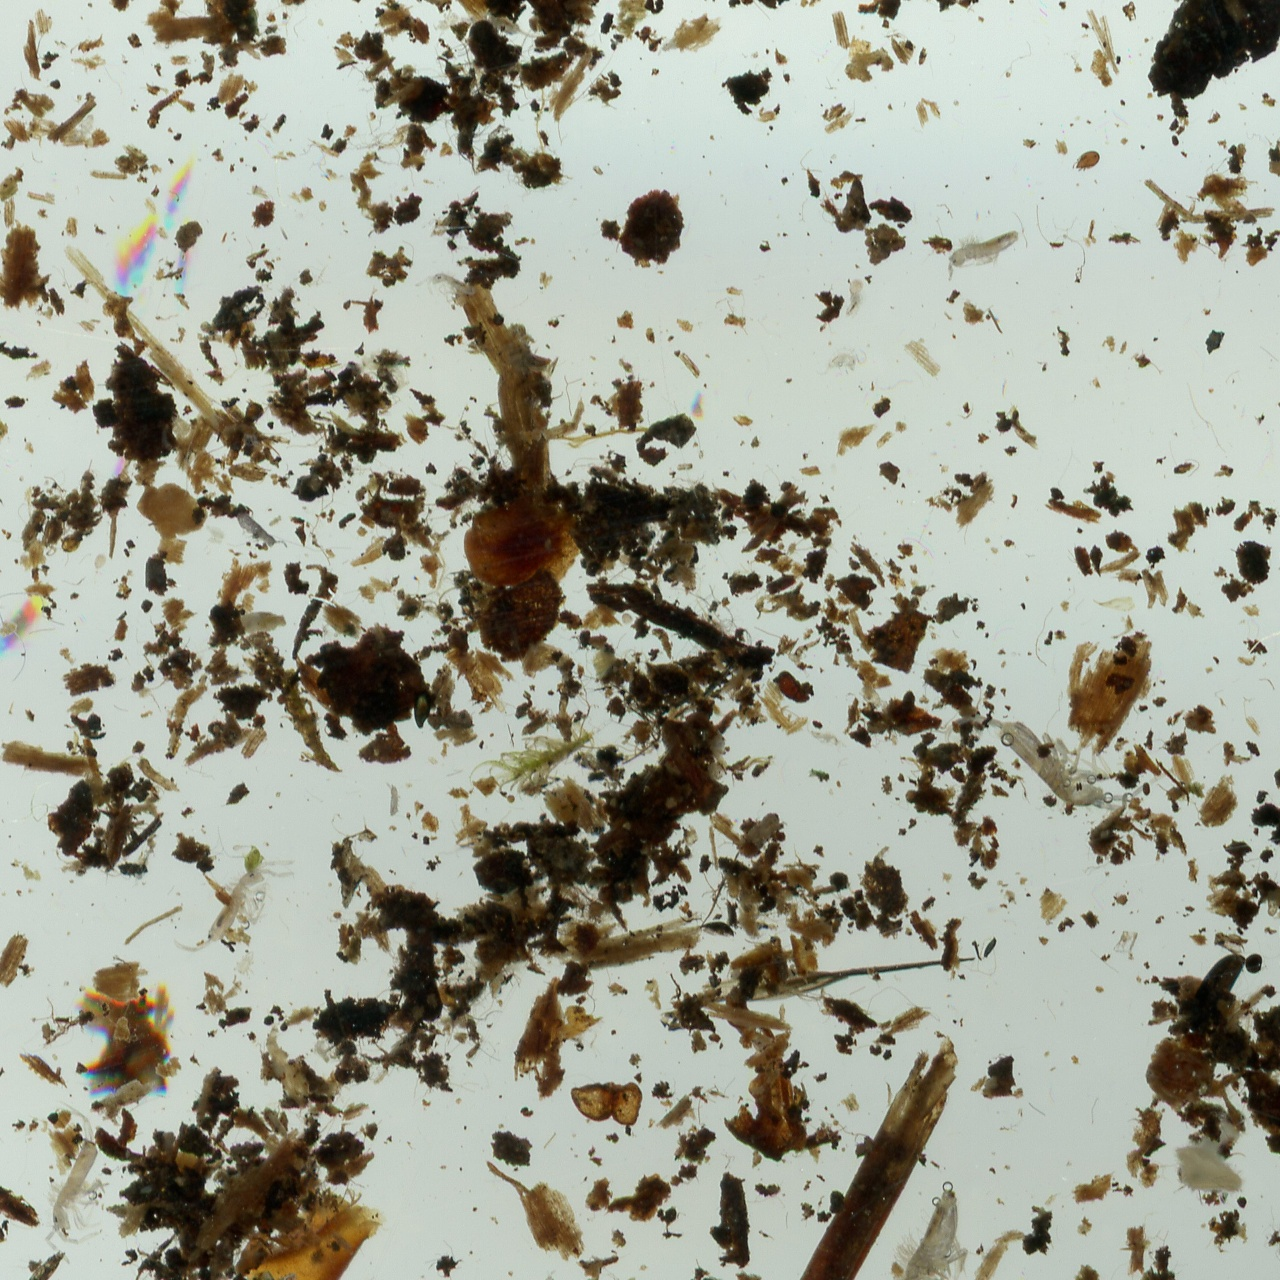arthropod: (931, 633, 1178, 874), (164, 823, 302, 983), (23, 1112, 137, 1268), (880, 1180, 998, 1280), (935, 223, 1027, 282), (225, 501, 295, 566), (481, 7, 545, 52), (810, 348, 871, 379), (805, 723, 850, 754), (843, 275, 867, 322), (652, 38, 685, 61), (386, 779, 404, 819), (234, 948, 259, 978), (312, 1032, 333, 1065), (1073, 150, 1101, 171), (540, 1268, 559, 1280)
